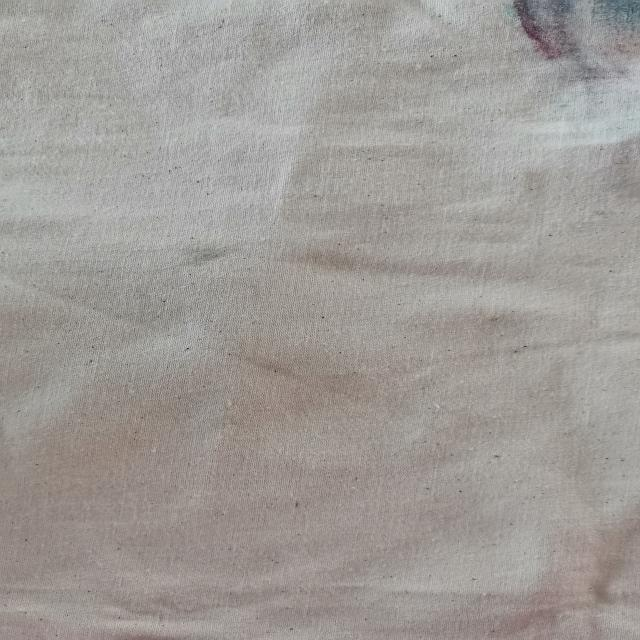taaaches: (492, 0, 640, 106), (171, 238, 246, 277)
